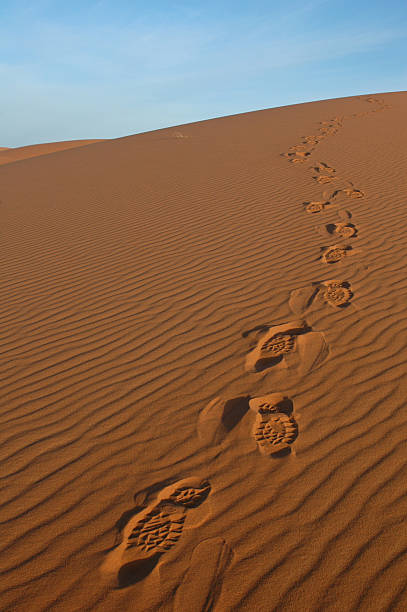human_footprint: (101, 477, 210, 586), (202, 393, 297, 455), (245, 319, 328, 373), (173, 537, 232, 611), (249, 393, 297, 455), (289, 279, 352, 314), (320, 244, 355, 264), (325, 222, 357, 238), (311, 162, 335, 174)
